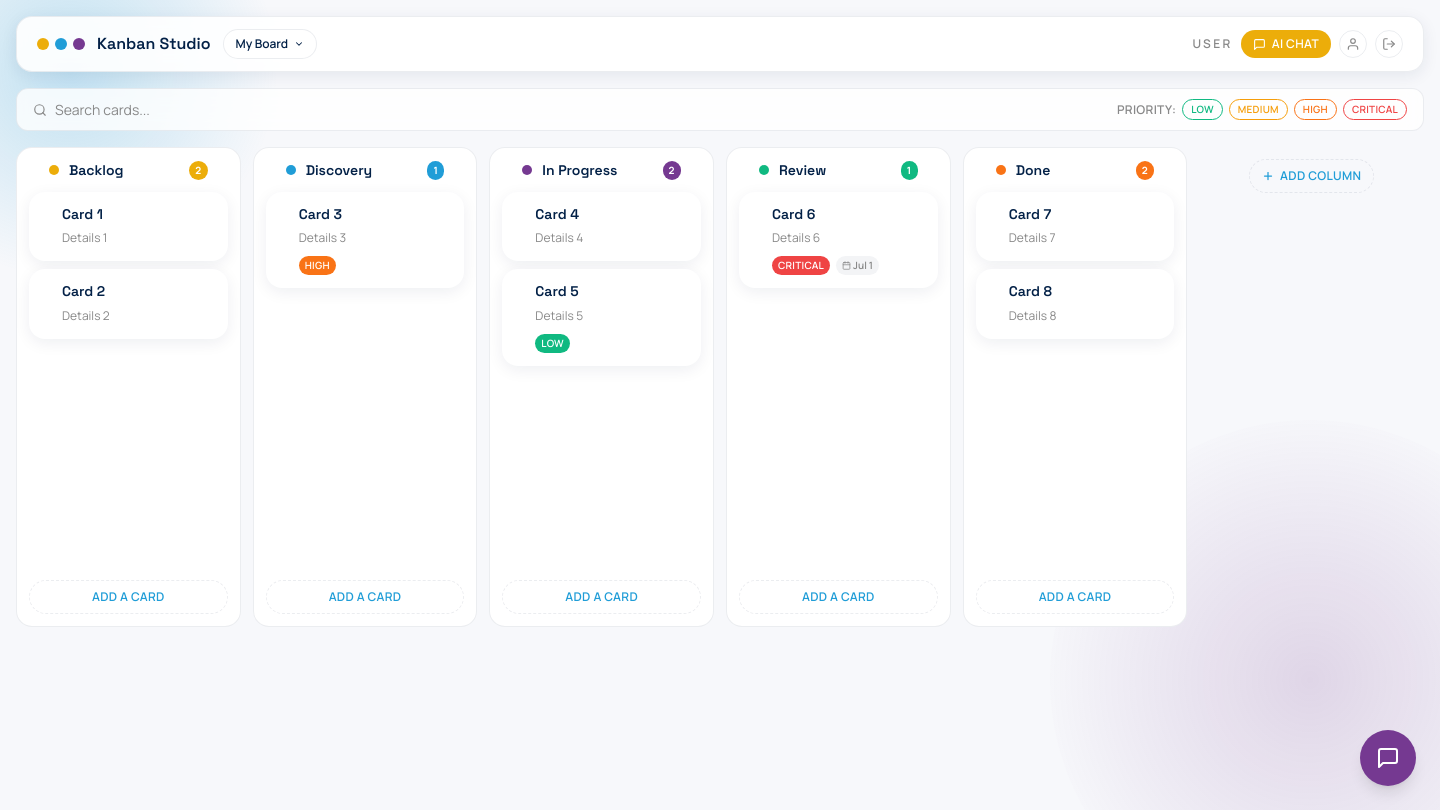
Test case: KanbanBoard › toggles priority filter on click and shows clear button
Click the button with test id "filter-high".
click(1315, 110)  # box left=1294, top=99, right=1337, bottom=120
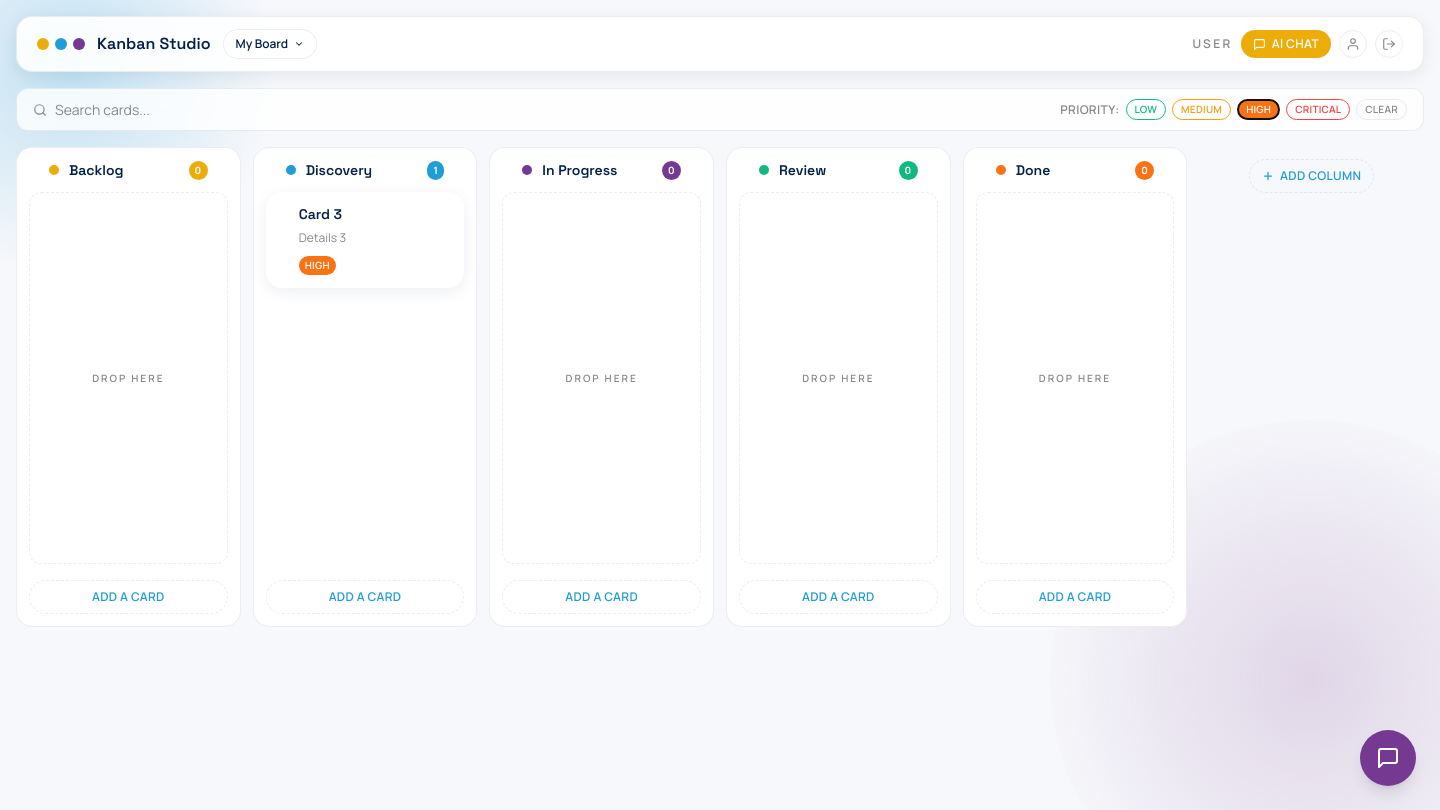
Now the button with test id "clear-filters" is shown, box left=1356, top=99, right=1407, bottom=120
